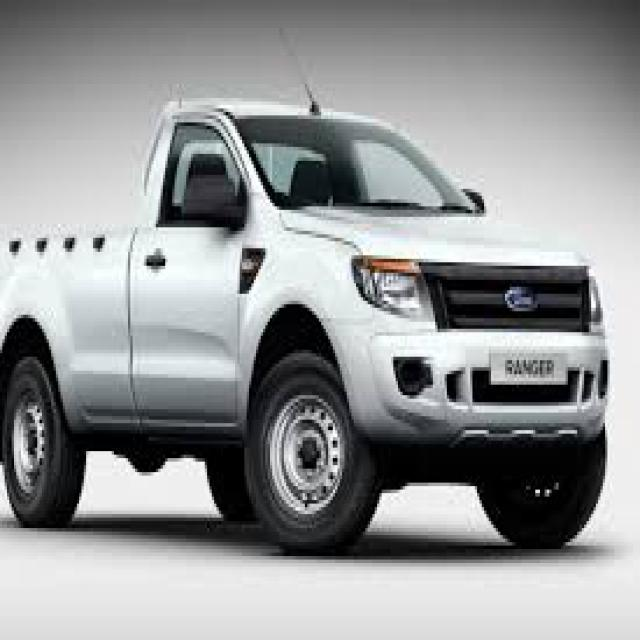Pickup Trucks: (2, 98, 612, 559)
